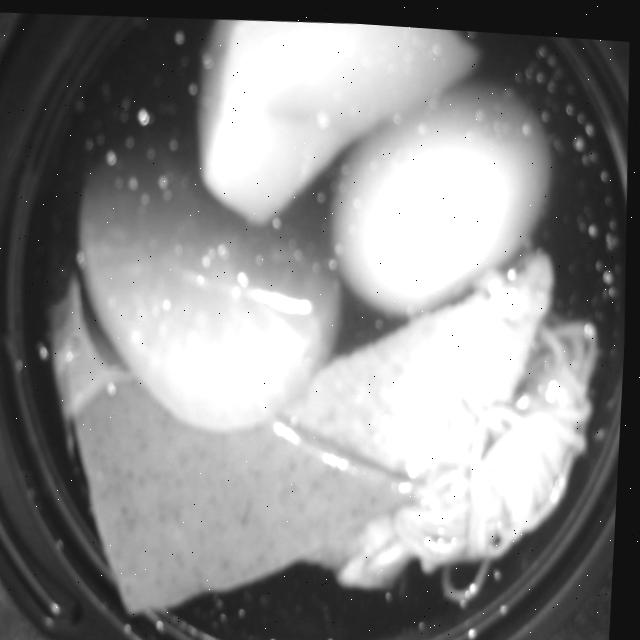汤锅炖物: (25, 3, 620, 640)
